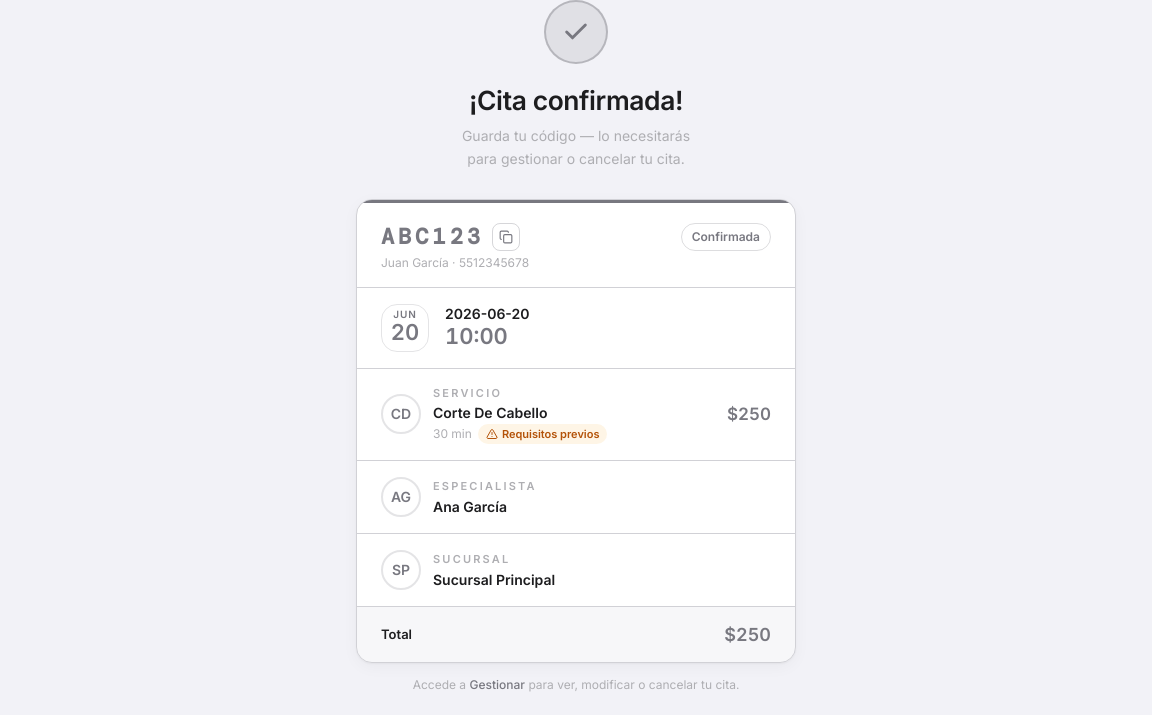
it: BookingConfirmation — chip Requisitos previos (servicio singular) › muestra el chip y abre el popover con el contenido correcto cuando el servicio está flagged
The width and height of the screenshot is (1152, 715).
Click the button "Requisitos previos" at point(543, 434), box [478,424,608,444]
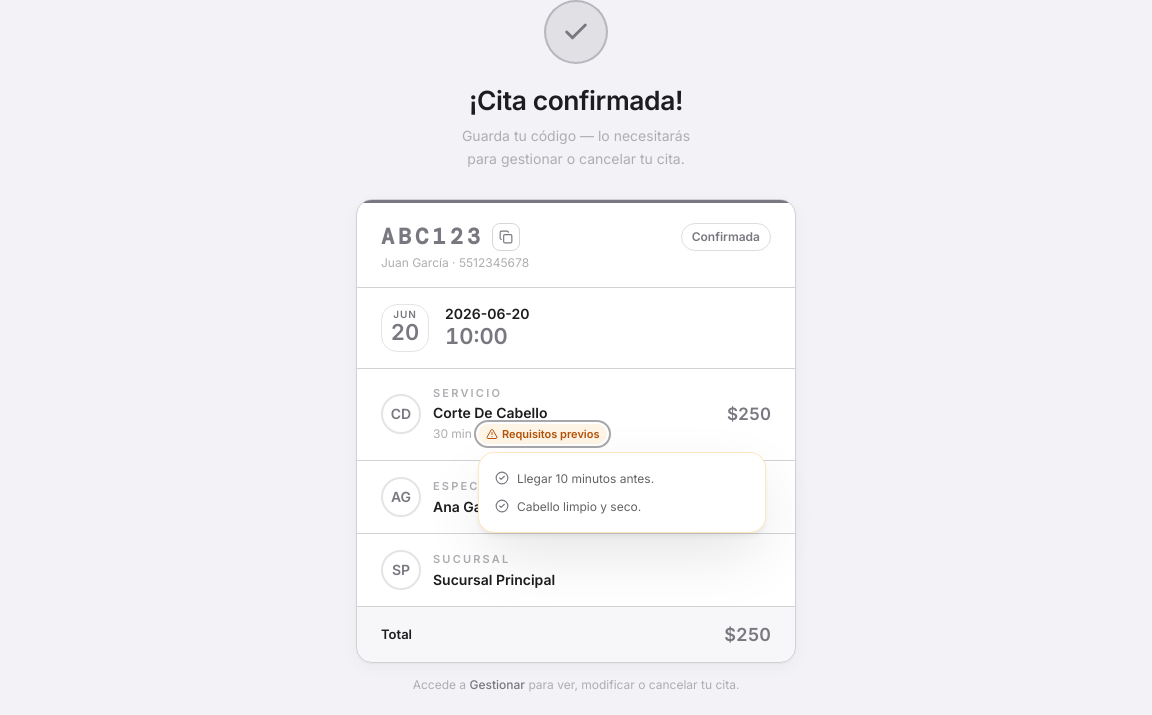
Expected: the dialog shows "Llegar 10 minutos antes.", [517,471,654,486]
Expected: the dialog shows "Cabello limpio y seco.", [517,499,641,514]
